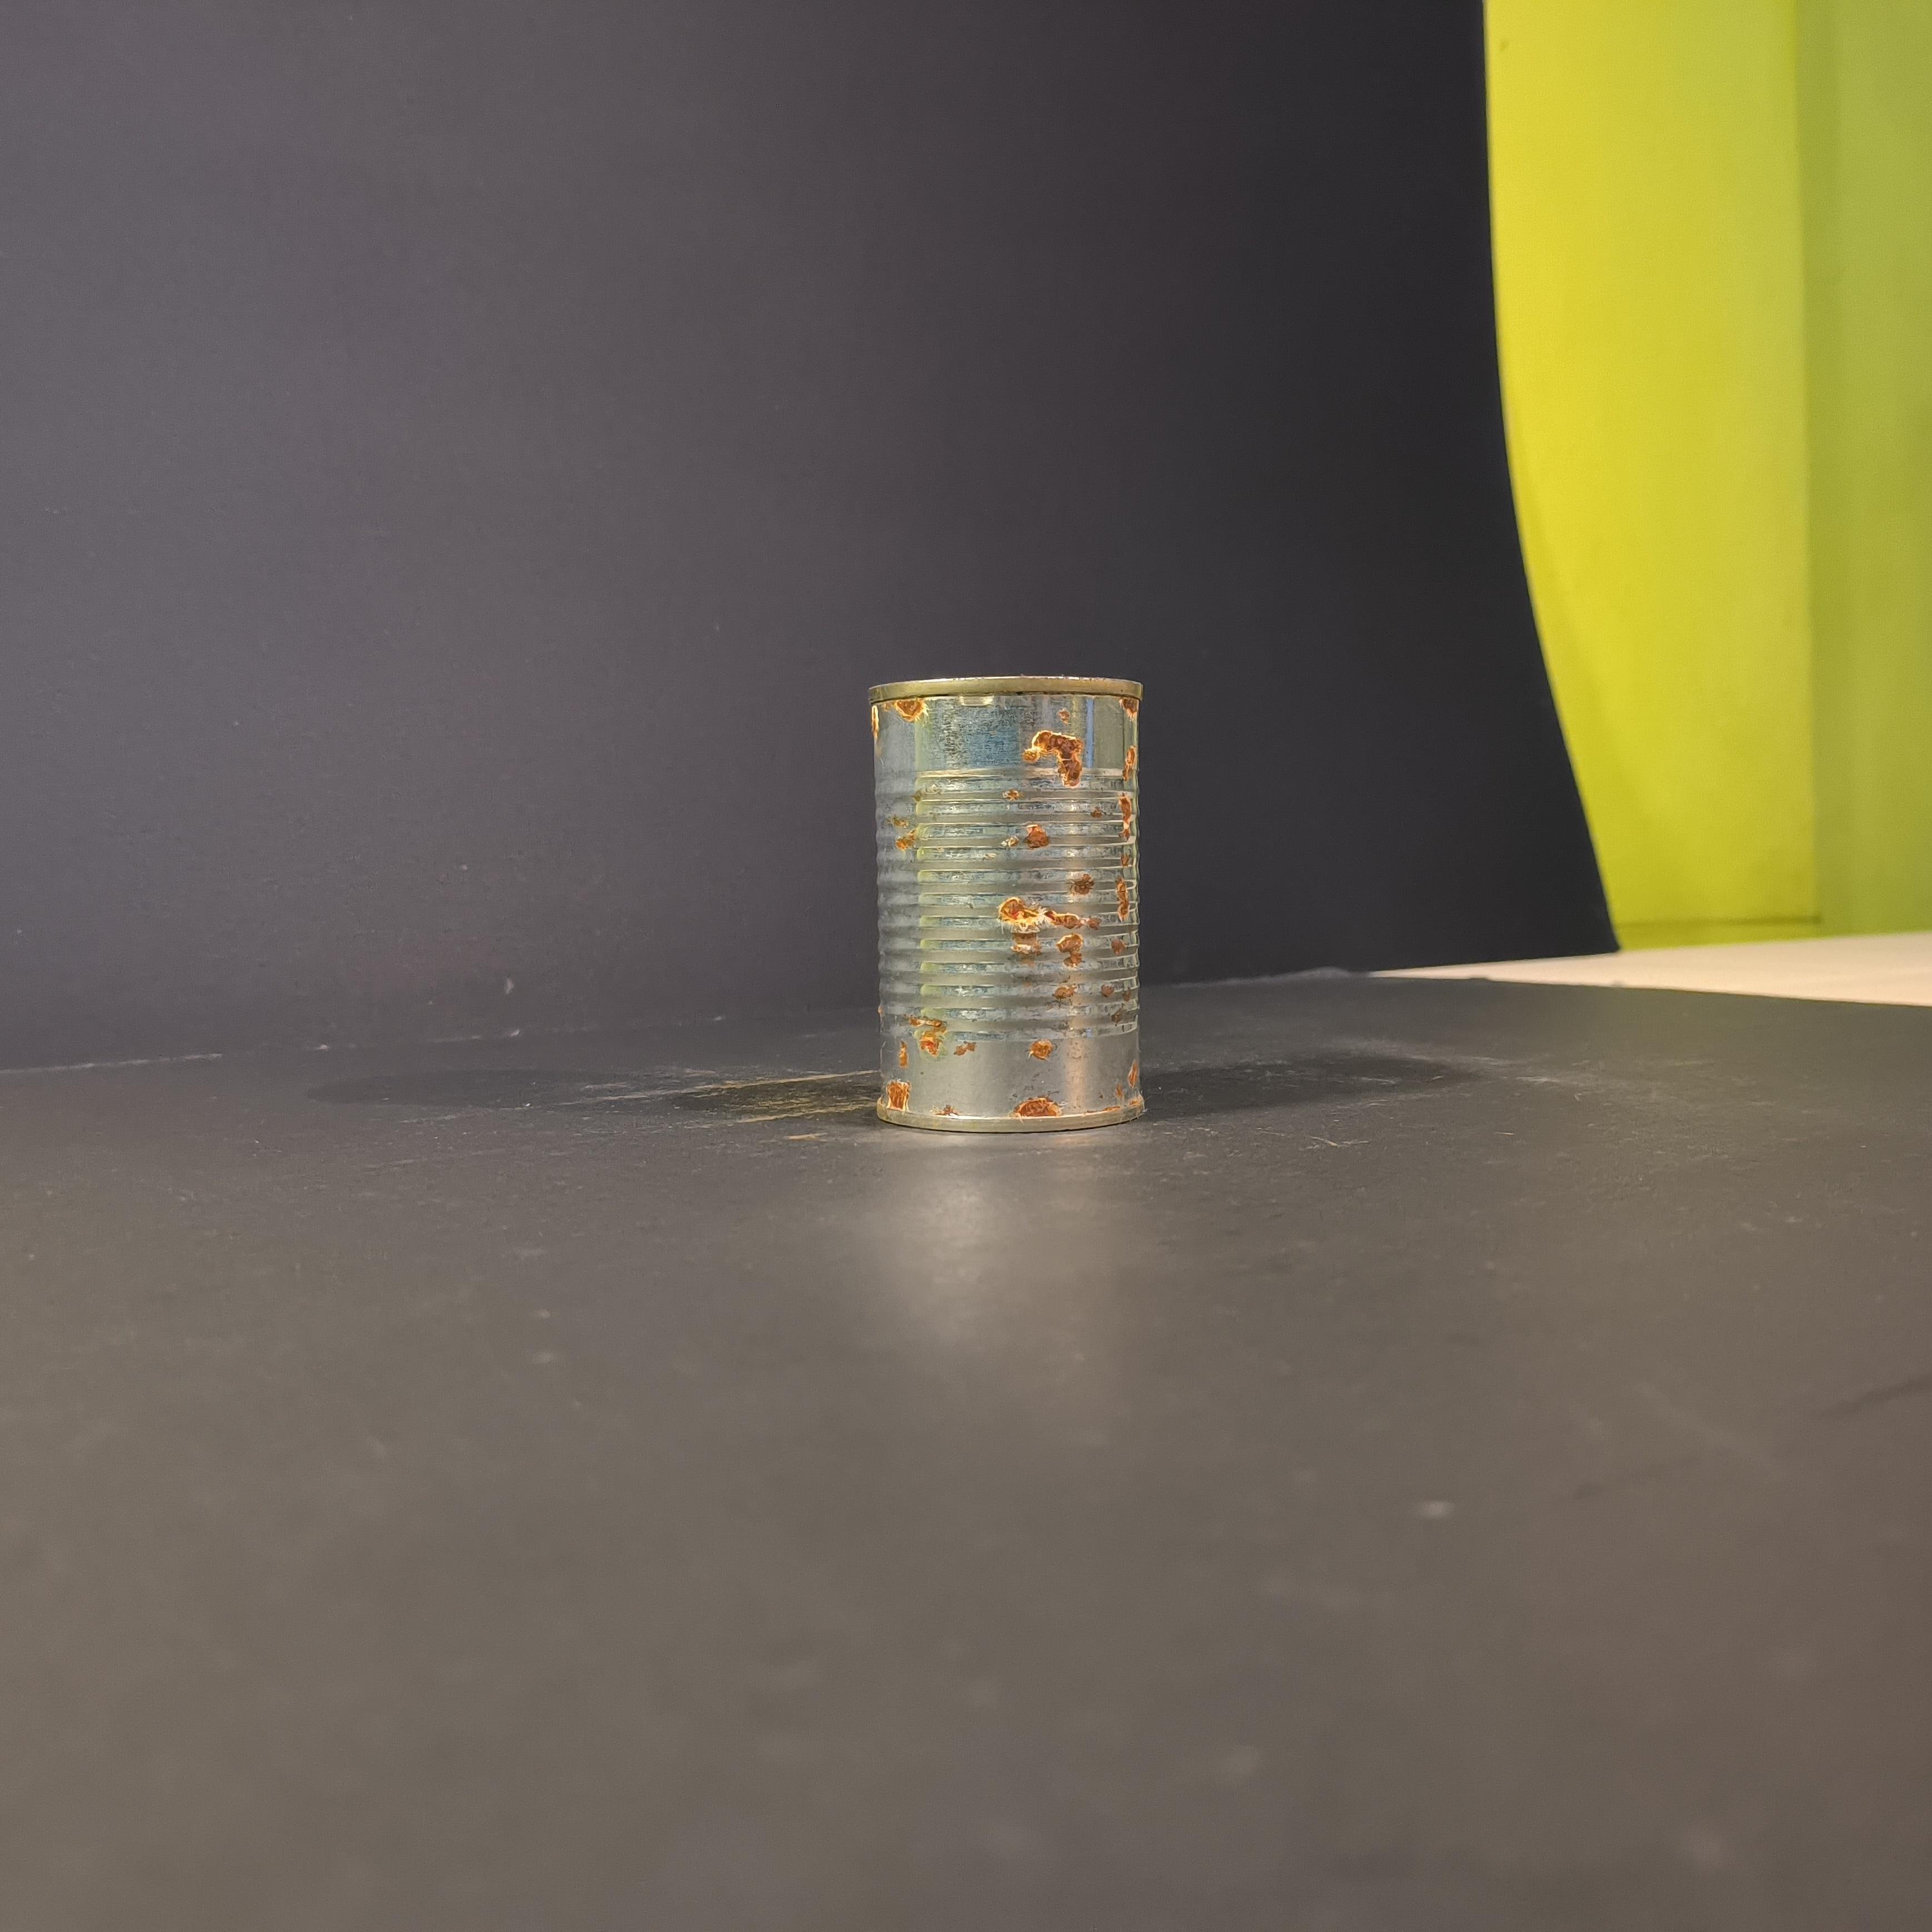Rusted: (849, 656, 1166, 1148)
